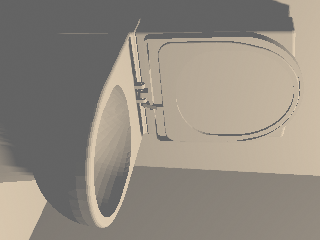lid_1: (144, 32, 303, 142)
